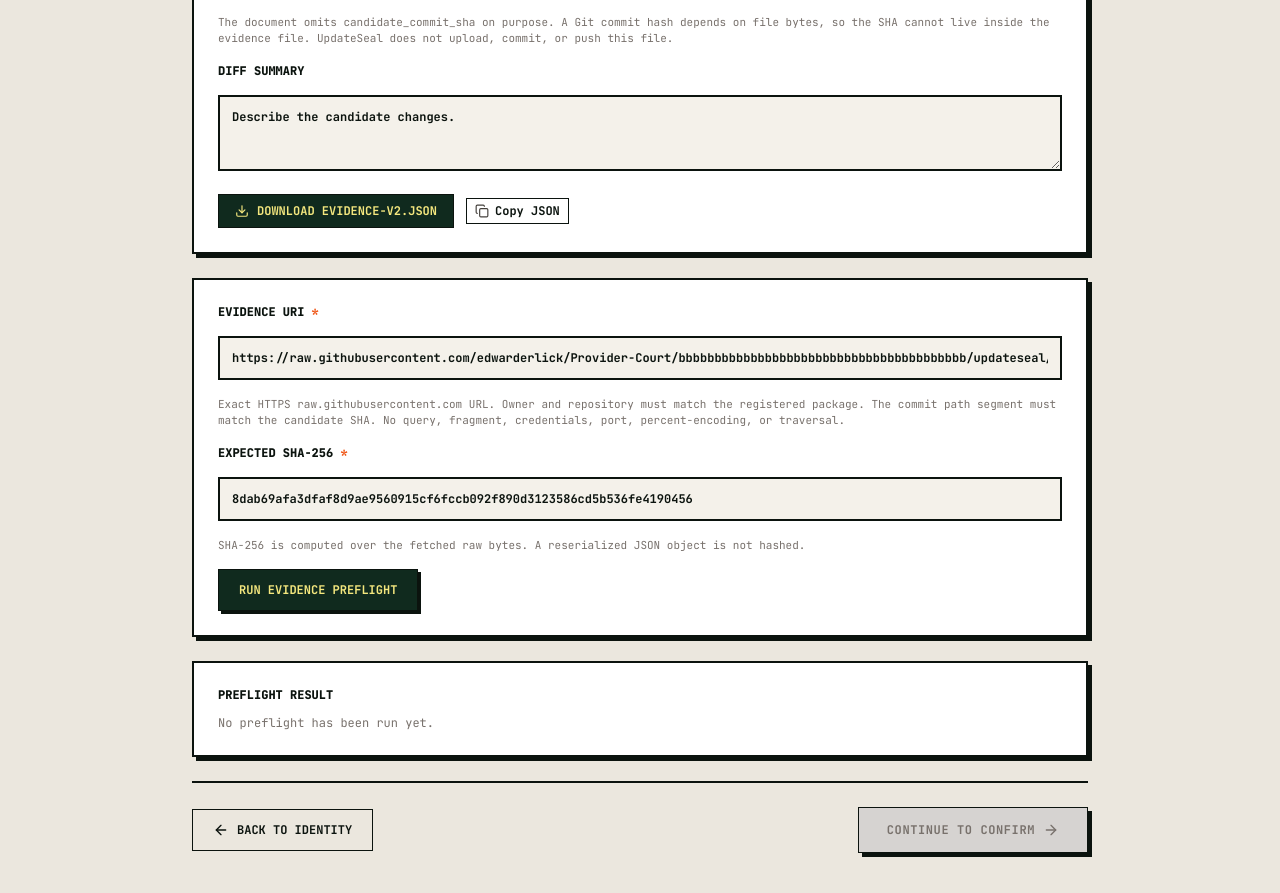
Test: live evidence preflight races › enables Continue for a current successful result
The image size is (1280, 893).
(page scrolled)
Click the button with test id "live-evidence-preflight-button" at {"x": 318, "y": 590}, box [218,569,418,611]
(page scrolled)
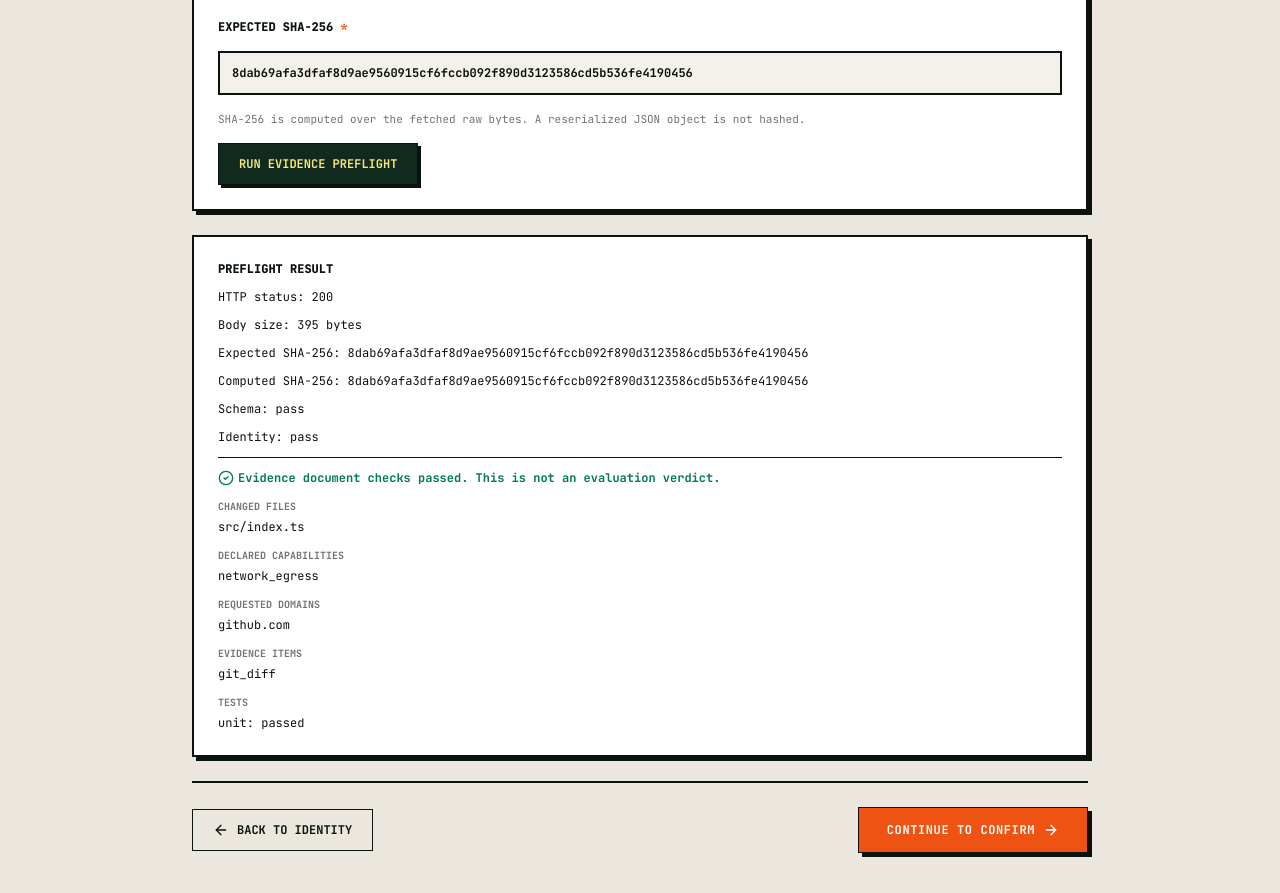
Expected: the button with test id "live-evidence-continue" is enabled, [858,807,1088,853]
